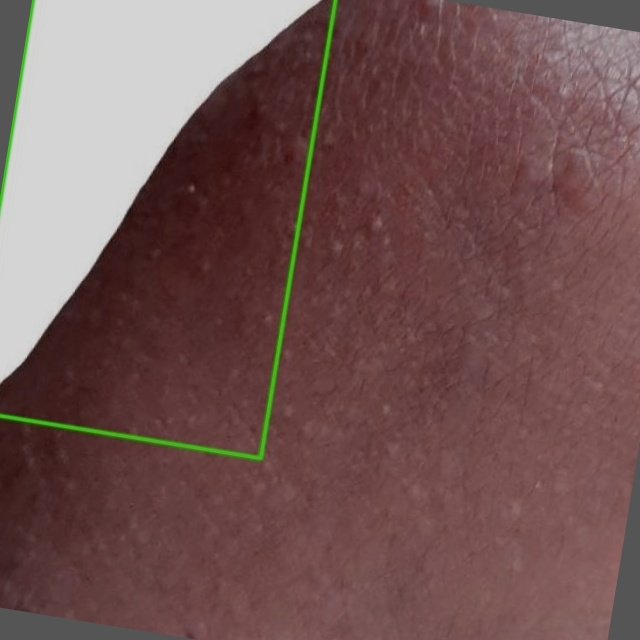Scabies: (0, 0, 335, 458)
